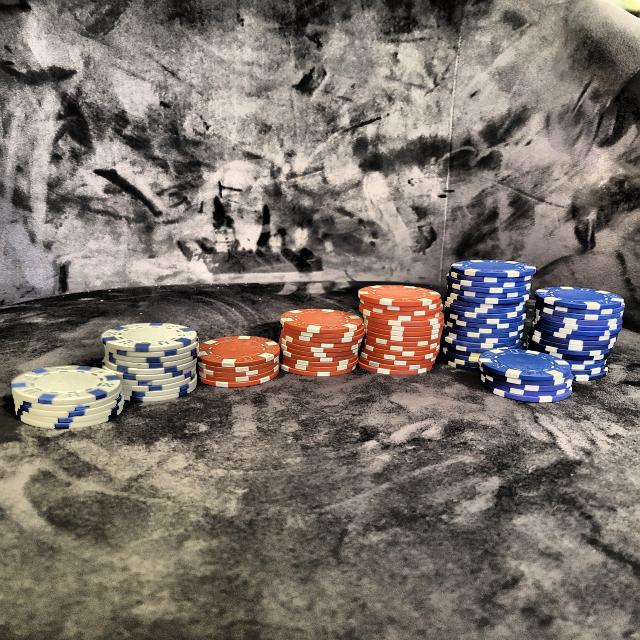Chip: (438, 255, 543, 374), (16, 343, 139, 441), (101, 310, 209, 418), (532, 278, 624, 394), (272, 298, 375, 384), (362, 278, 442, 374), (197, 321, 289, 400), (484, 336, 569, 406)
